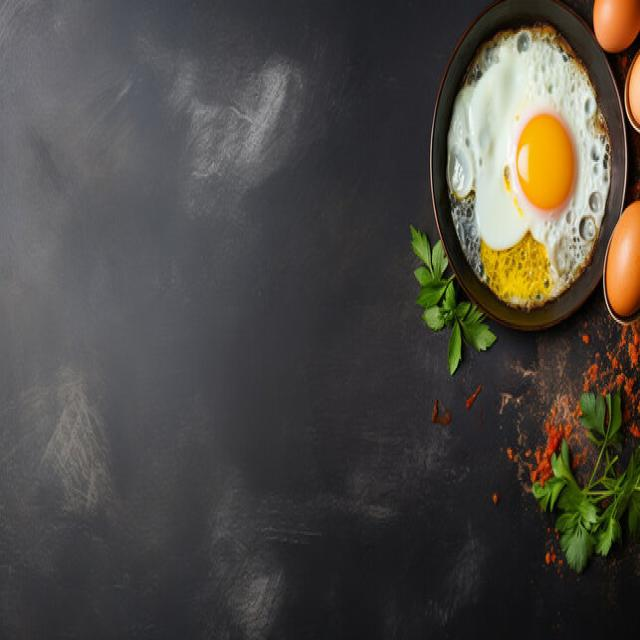Egg: (446, 25, 611, 309)
